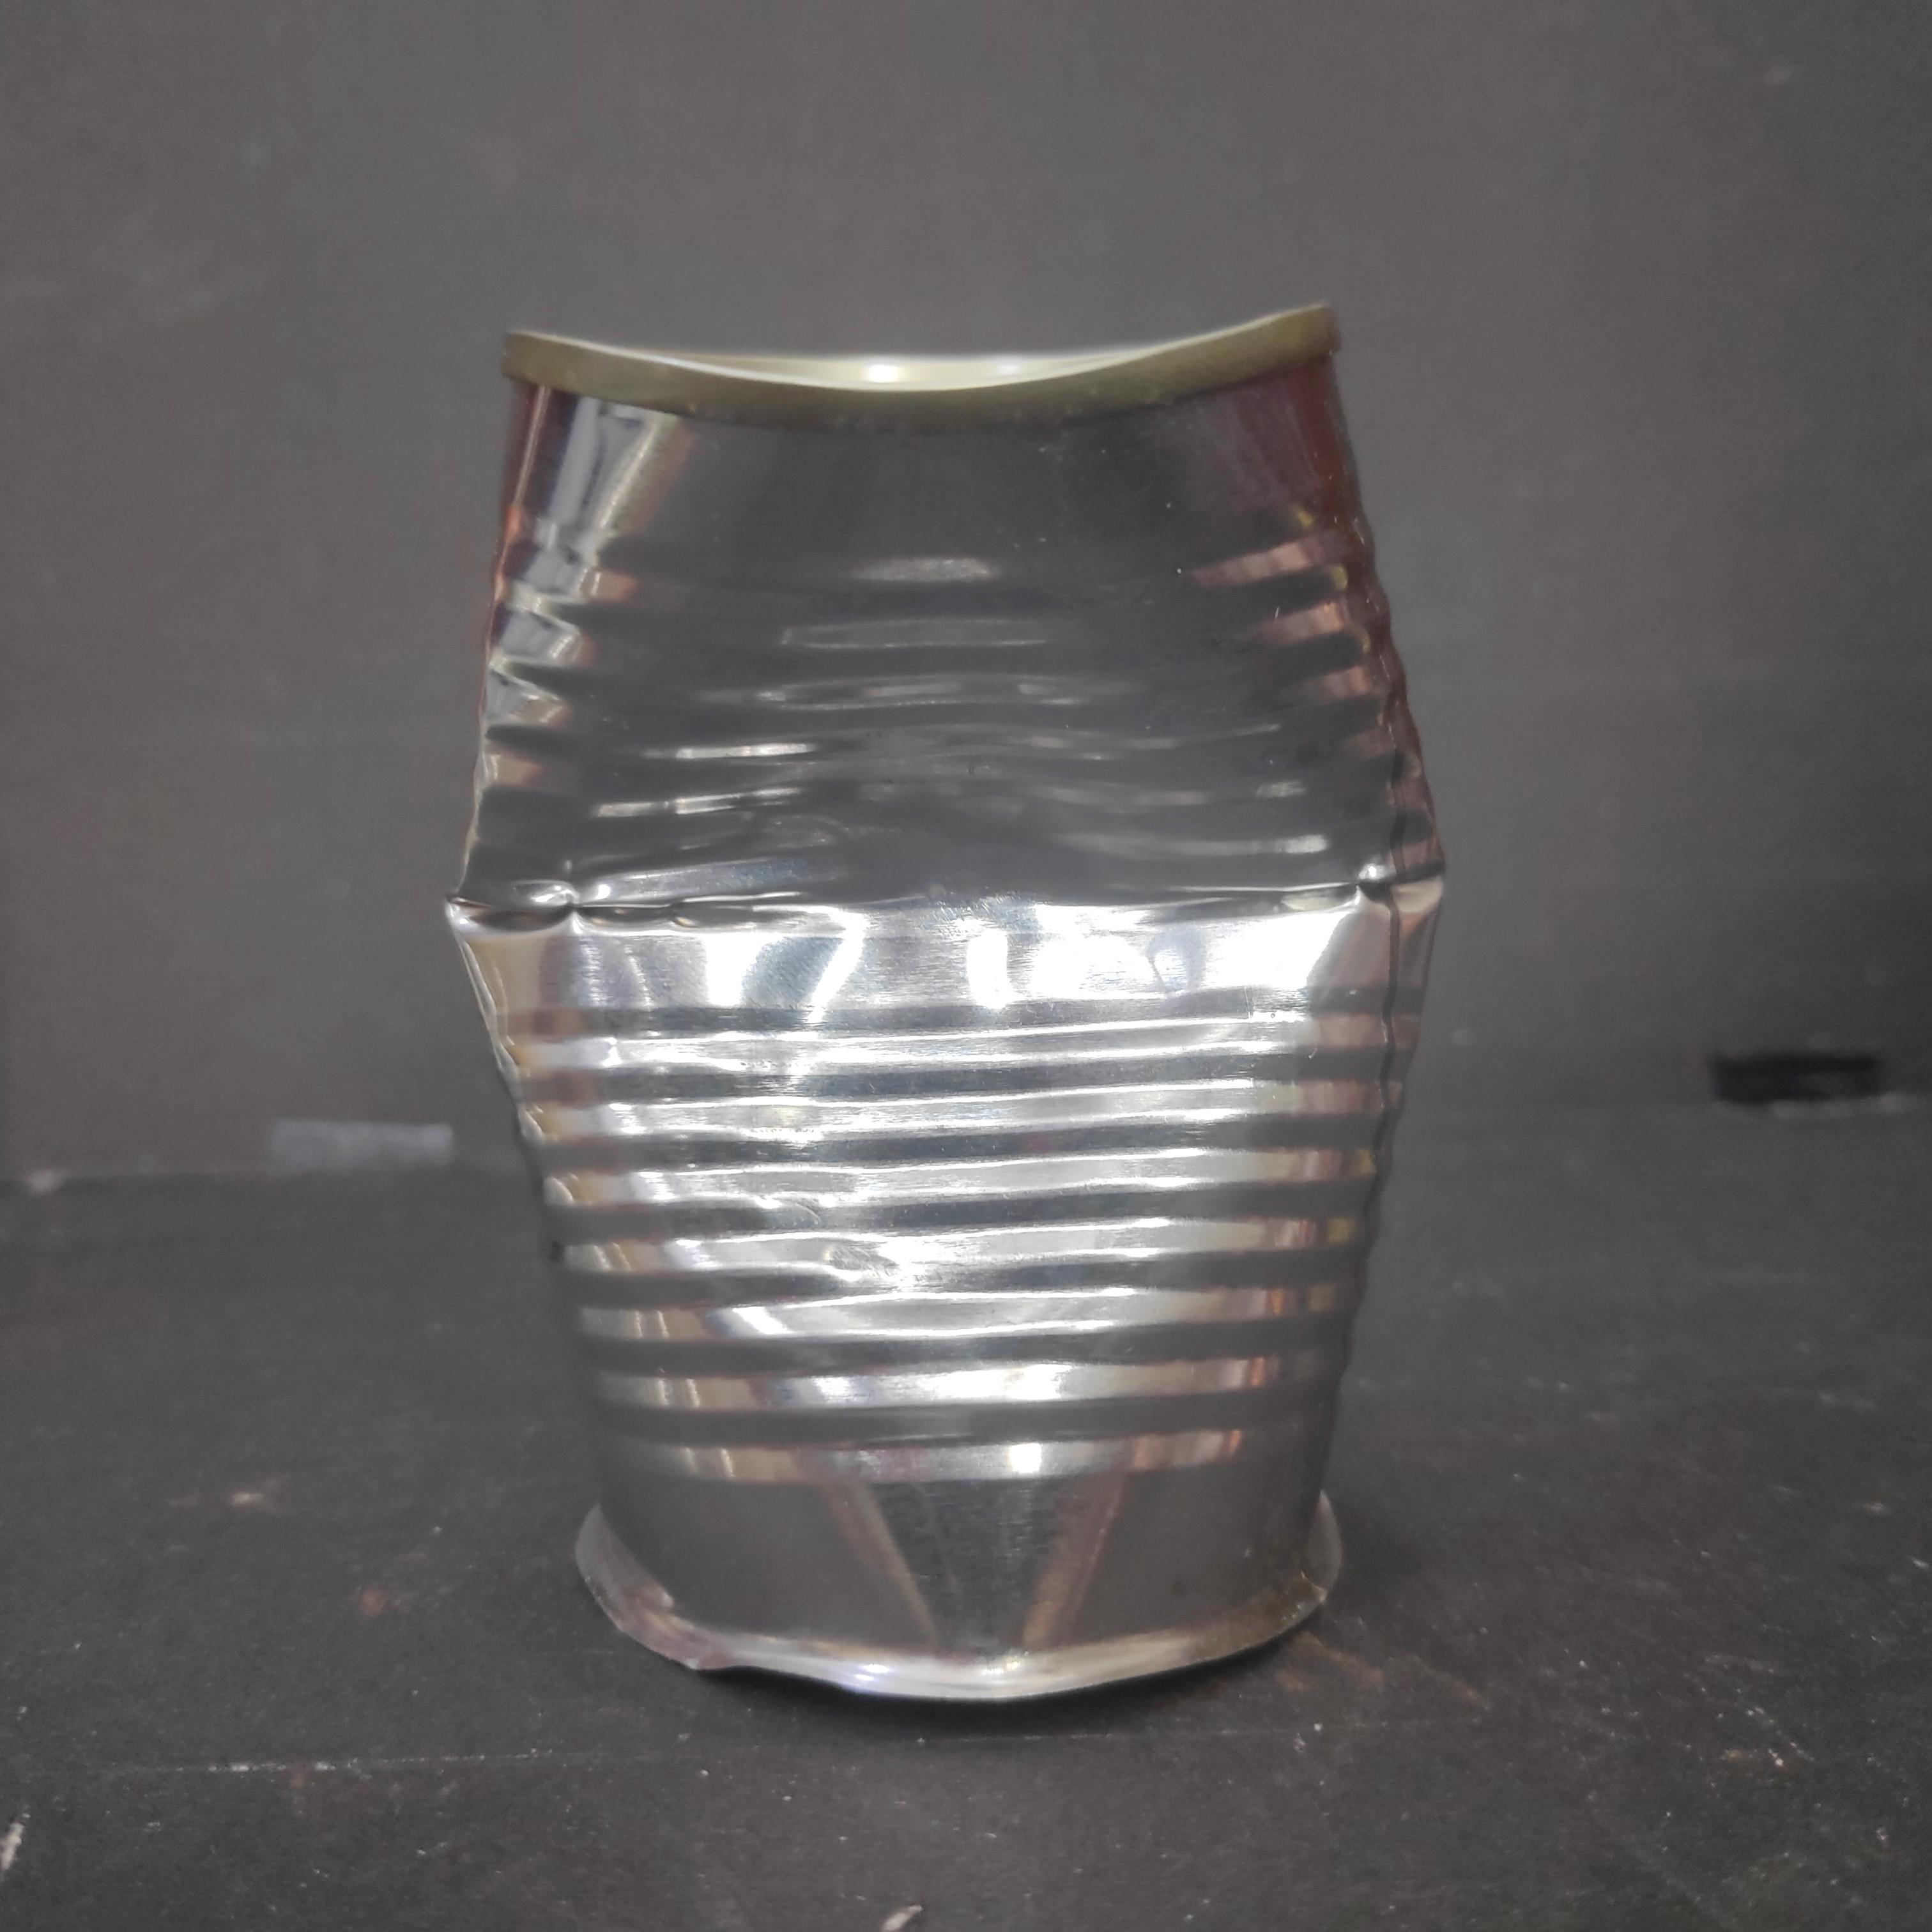Major Defect: (439, 294, 1463, 1711)
